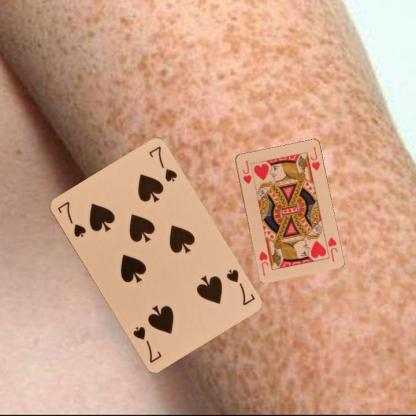7s: (54, 198, 88, 238), (223, 266, 256, 307)
Jh: (325, 235, 339, 262), (240, 158, 252, 185)
